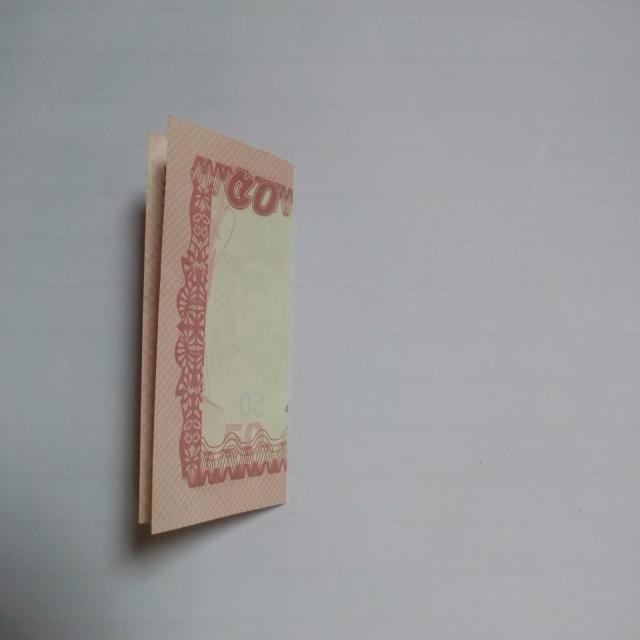Taka: (129, 91, 289, 489)
